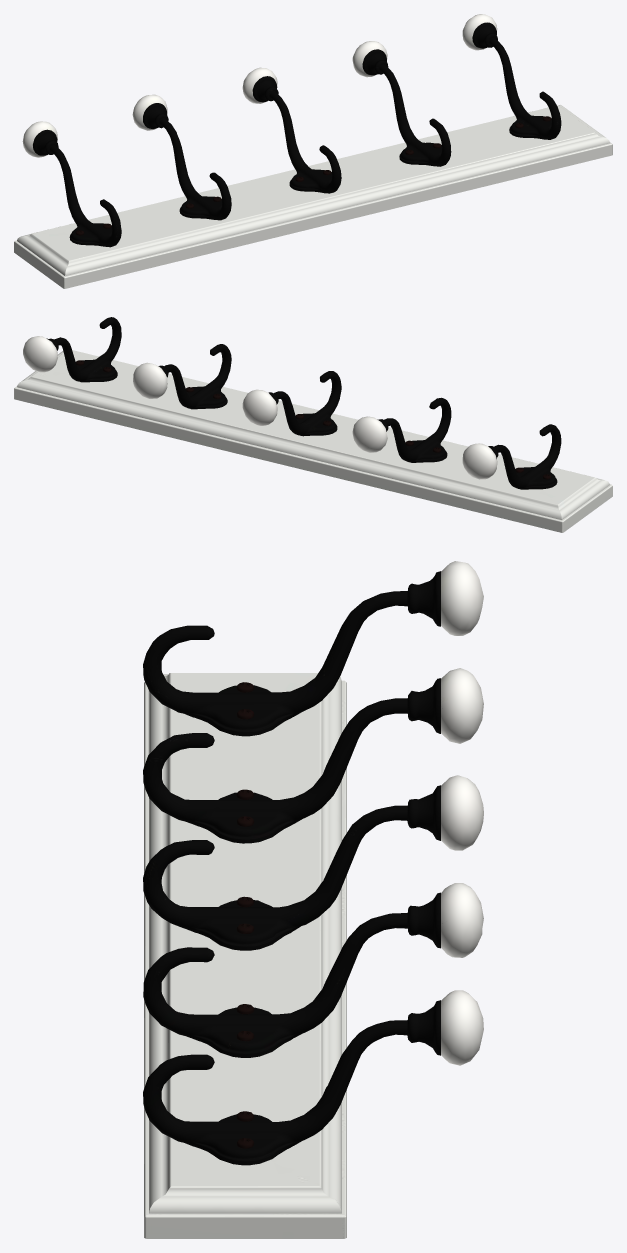
Rendered from landkrabba_wieszak_z_5_haczykami_60531893.glb.
3 views of the same model, one above another, from view 1: azimuth 30°, elevation 25°; view 2: azimuth 150°, elevation 25°; view 3: azimuth 270°, elevation 25° (orthographic). The views are drawn at different scales.
Visible parts, largest first — view 1: landkrabba_wieszak_z_5_haczykami_60531893; view 2: landkrabba_wieszak_z_5_haczykami_60531893; view 3: landkrabba_wieszak_z_5_haczykami_60531893.
Boxes of the visible parts, x1=… form: landkrabba_wieszak_z_5_haczykami_60531893: x1=14, y1=14, x2=612, y2=288; landkrabba_wieszak_z_5_haczykami_60531893: x1=14, y1=317, x2=612, y2=532; landkrabba_wieszak_z_5_haczykami_60531893: x1=143, y1=561, x2=483, y2=1238.
Bounding box in the file's own units: 0.5 × 0.0835 × 0.1343.
1 material, 1 textured.
